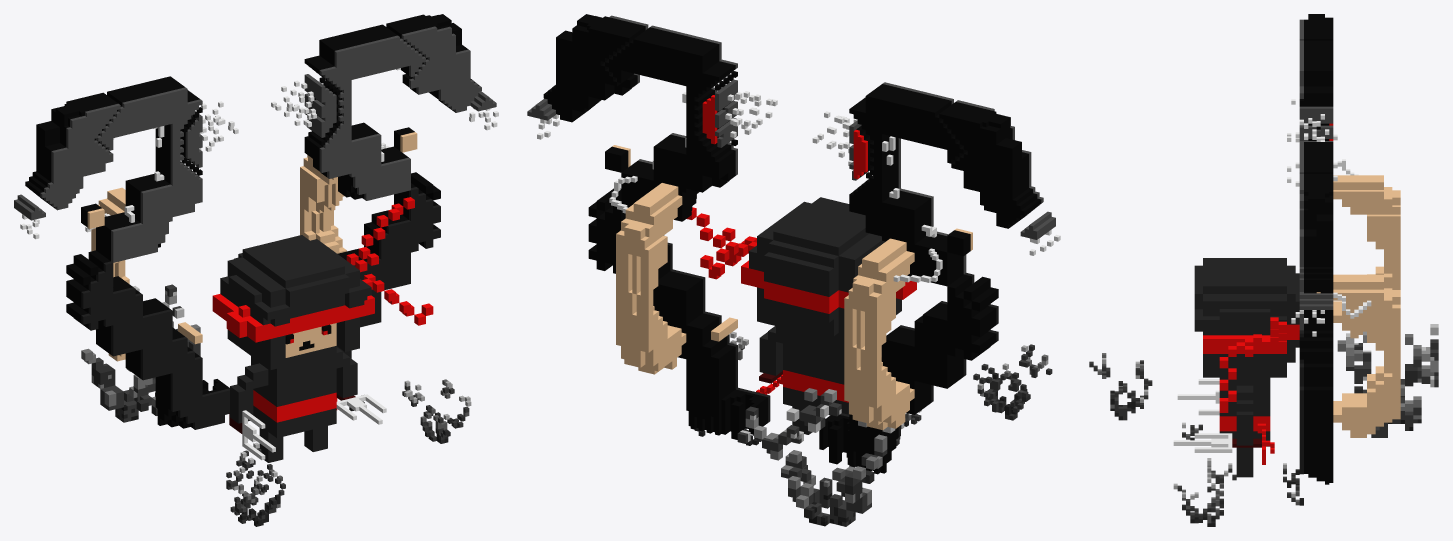
Rendered from ninja + metal wings.obj.
3 views of the same model, side by side, from view 1: azimuth 30°, elevation 25°; view 2: azimuth 150°, elevation 25°; view 3: azimuth 270°, elevation 25° (orthographic). The views are drawn at different scales.
Bounding box in the file's own units: 125 × 93 × 83.
Materials: 1 (1 with a texture image).
